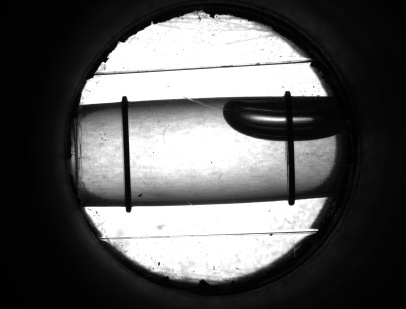line: (116, 111, 136, 190), (280, 147, 300, 189)
